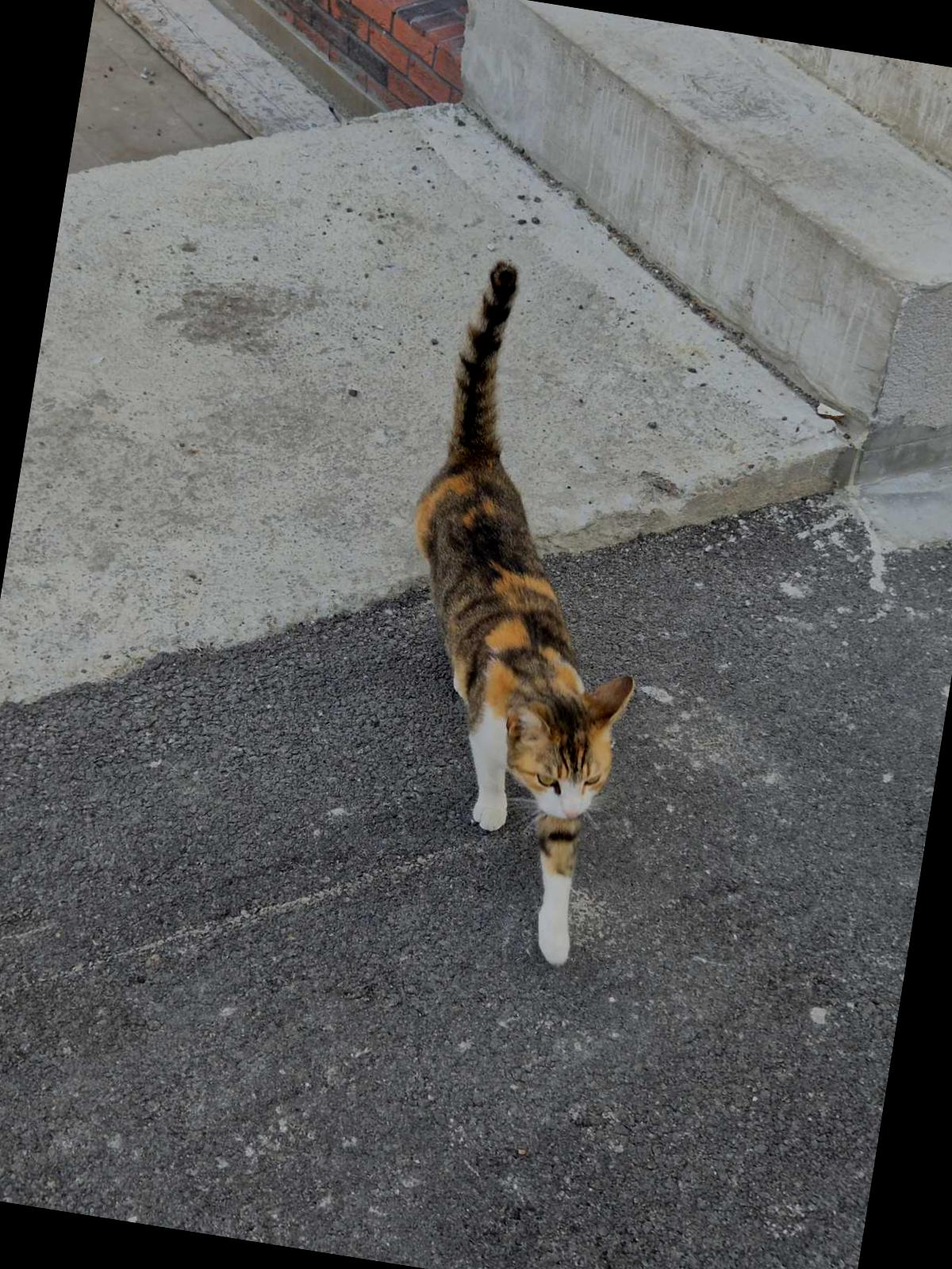macka: (345, 255, 696, 981)
